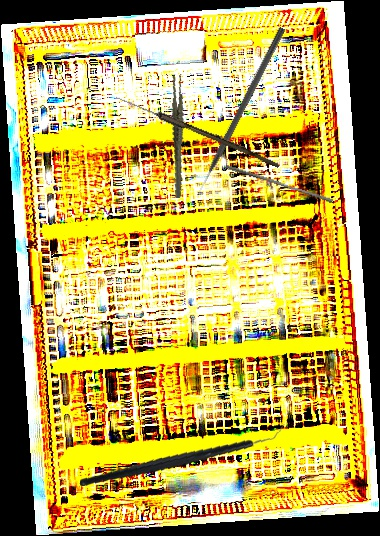Chopper: (79, 400, 286, 510)
Hook Surgical: (192, 26, 287, 199)
Pusher: (224, 164, 334, 204)
Surgical Spoon: (113, 94, 282, 168)
Tissue Forceps: (151, 72, 204, 199)
